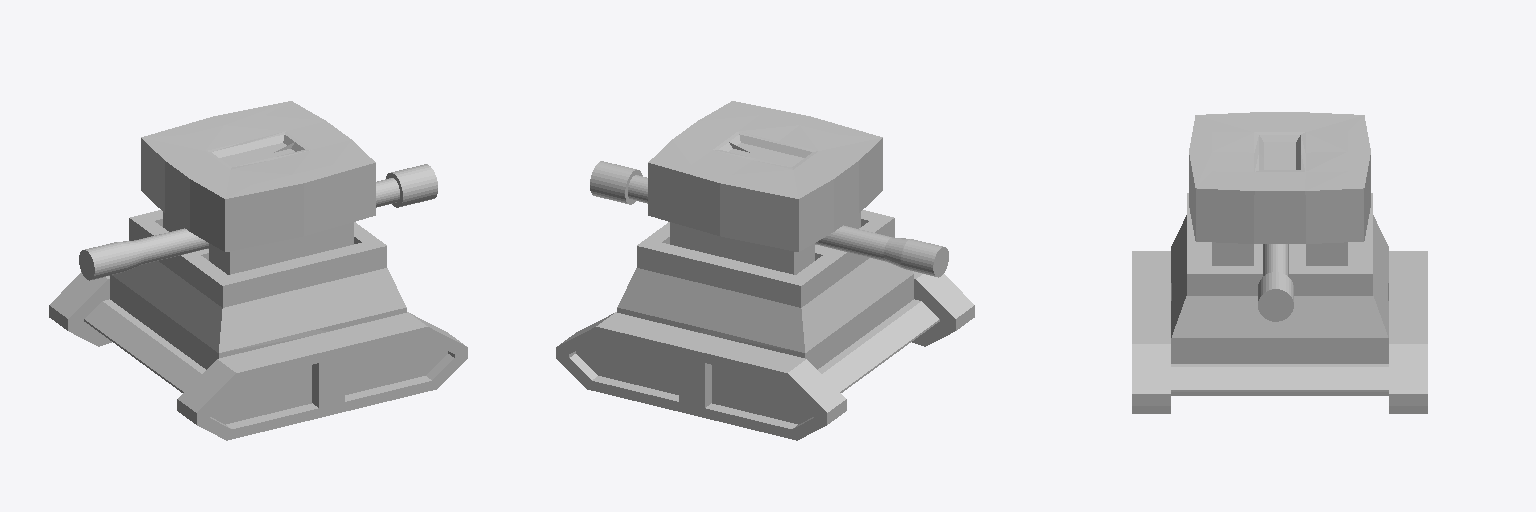
Rendered from Tank3.obj.
3 renders of one model, left to right at view 1: azimuth 30°, elevation 25°; view 2: azimuth 150°, elevation 25°; view 3: azimuth 270°, elevation 25°, orthographic.
Parts seen in each view (by area): view 1: Cube.004, Circle.002; view 2: Cube.004, Circle.002; view 3: Cube.004, Circle.002.
Boxes of the visible parts, <box> form: Cube.004: <box>49,101,467,440</box>; Circle.002: <box>79,164,437,280</box>; Cube.004: <box>556,101,974,440</box>; Circle.002: <box>590,161,948,277</box>; Cube.004: <box>1132,112,1427,413</box>; Circle.002: <box>1258,244,1293,321</box>.
Bounding box in the file's own units: 2.9 × 1.71 × 2.17.